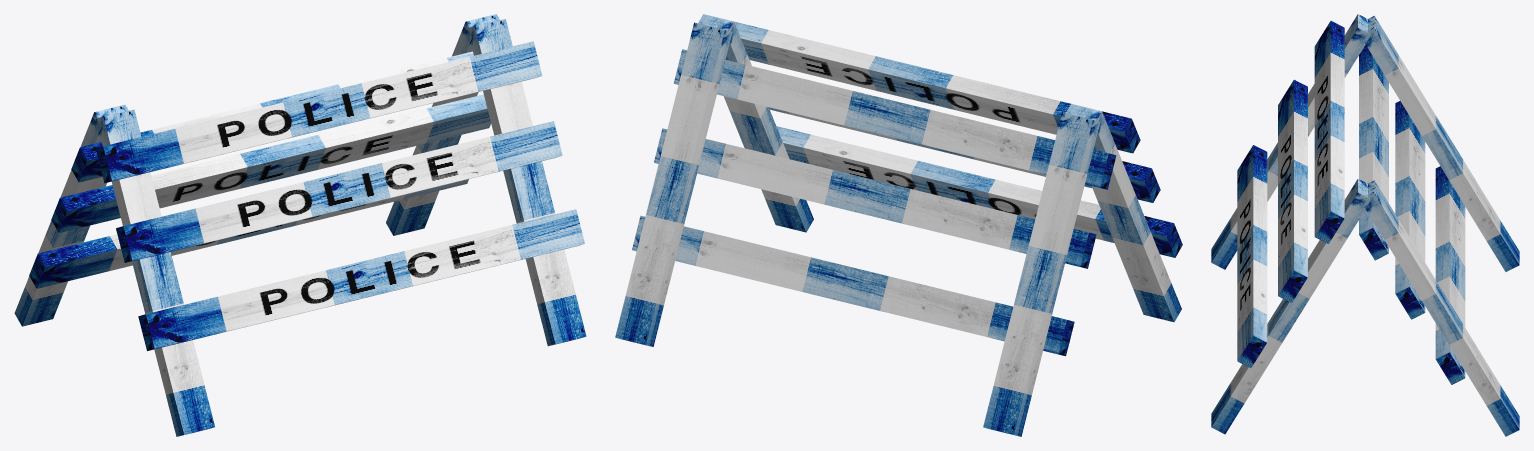
Rendered from barierka.fbx.
3 views of the same model, side by side, from view 1: azimuth 30°, elevation 25°; view 2: azimuth 150°, elevation 25°; view 3: azimuth 270°, elevation 25° (orthographic). The views are drawn at different scales.
Visible parts, largest first — view 1: Cube_003; view 2: Cube_003; view 3: Cube_003.
Boxes of the visible parts, x1,y1,x2,y2 form: Cube_003: (14, 14, 586, 436); Cube_003: (615, 14, 1182, 436); Cube_003: (1211, 14, 1519, 436).
Bounding box in the file's own units: 6.31 × 3.77 × 4.31.
